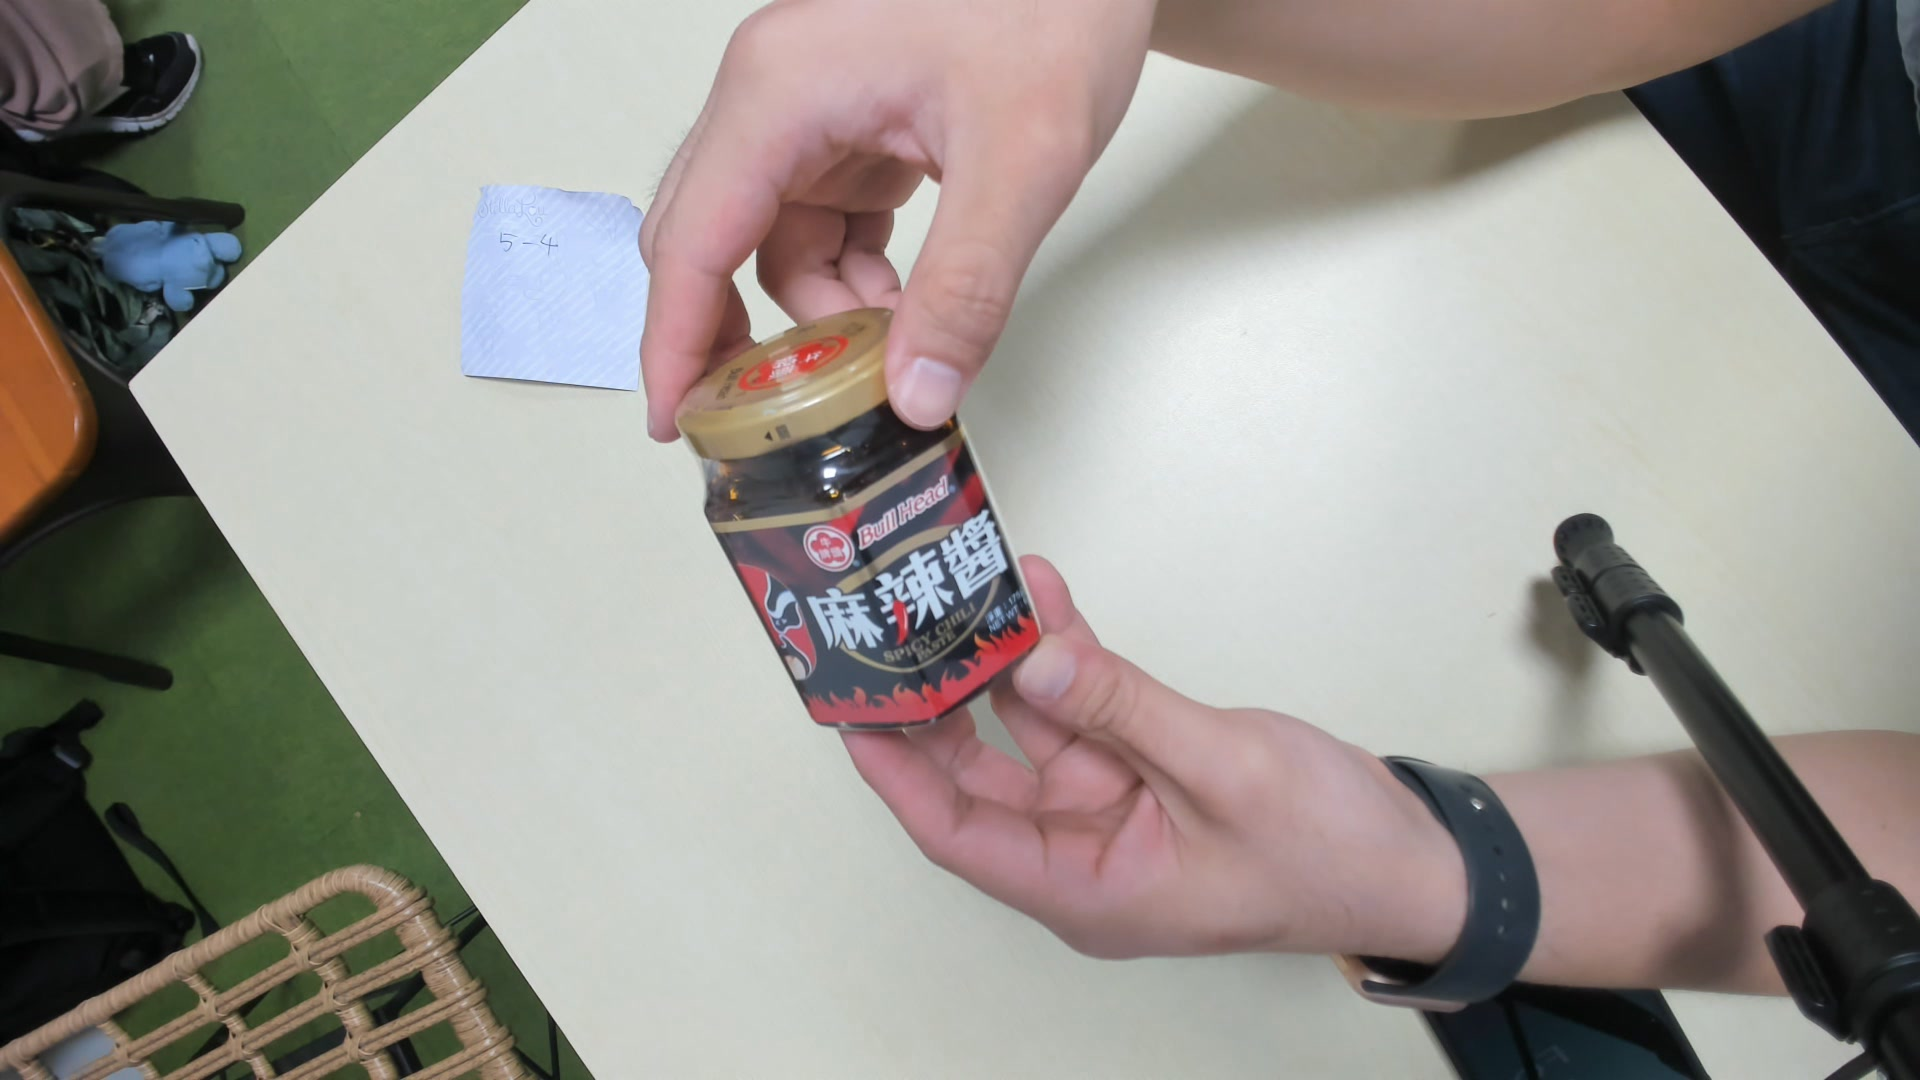OtherSauceDressing_100-199g_NonHalal_NonHealthy: (680, 310, 1036, 735)
